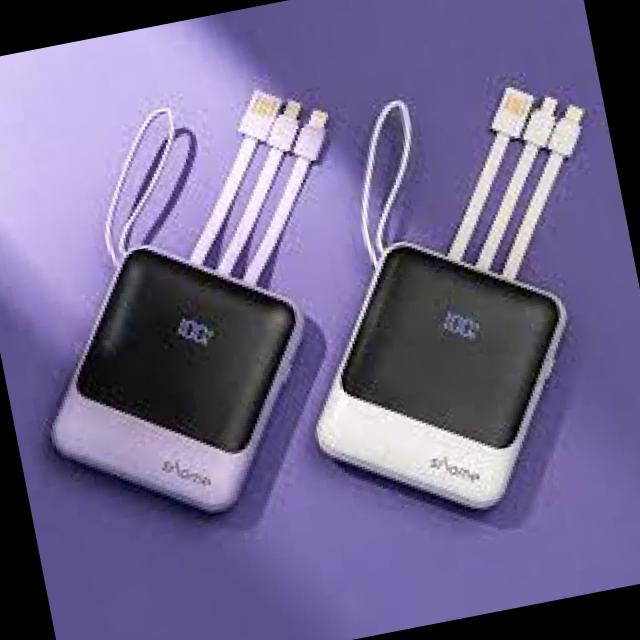power_bank: (12, 216, 340, 554), (284, 215, 601, 545)
